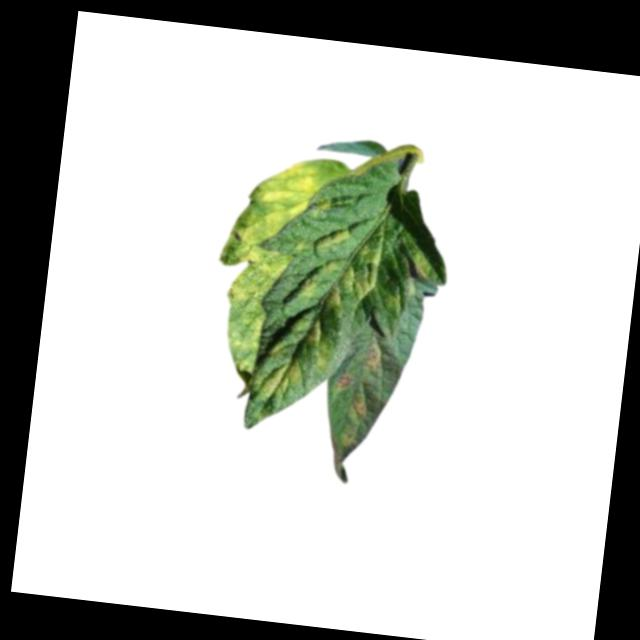Leaf_Mold: (258, 221, 384, 417), (234, 152, 318, 266), (324, 341, 389, 482), (218, 257, 287, 372)
